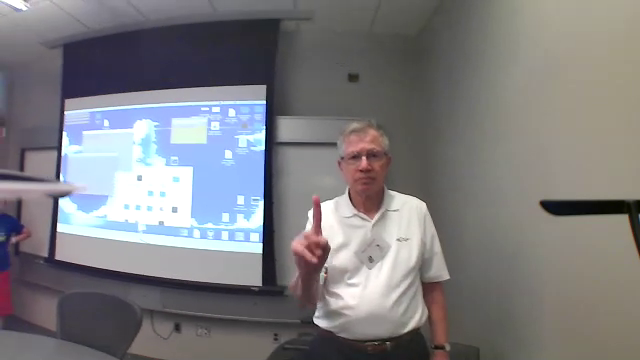up: (290, 192, 330, 276)
